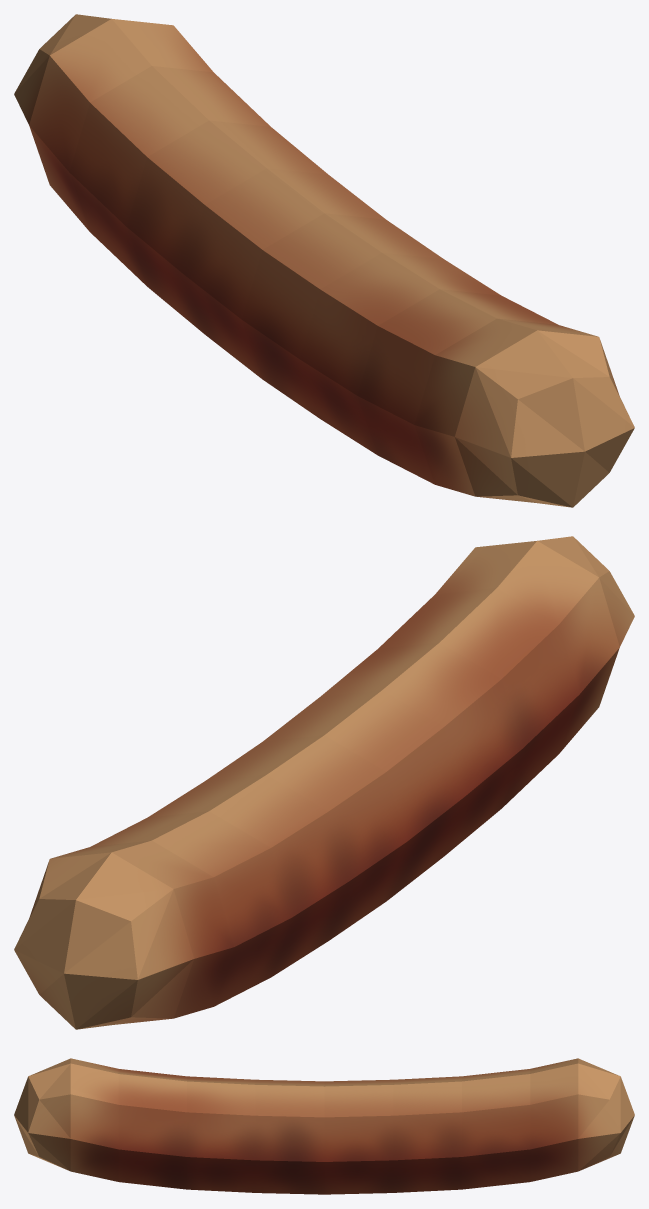
File: bratwurst.obj
The picture shows the model from 3 angles, top to bottom: view 1: azimuth 30°, elevation 25°; view 2: azimuth 150°, elevation 25°; view 3: azimuth 270°, elevation 25°; orthographic projection. The views are drawn at different scales.
Bounding box in the file's own units: 1 × 1.22 × 5.46.
